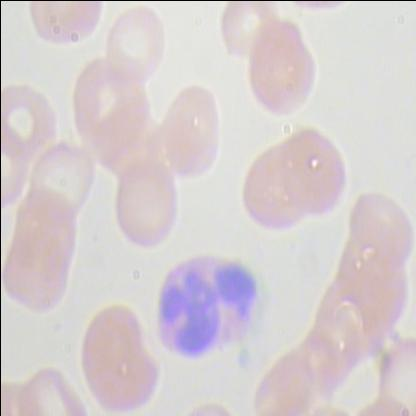RBC: (76, 294, 165, 415), (243, 16, 319, 121), (157, 82, 233, 186), (102, 1, 174, 91), (1, 226, 72, 314), (278, 128, 347, 218), (240, 142, 308, 233), (110, 161, 178, 251), (346, 186, 414, 276), (27, 138, 99, 218), (1, 76, 59, 169), (26, 0, 108, 54), (214, 1, 276, 65), (13, 364, 88, 416)
WBC: (146, 240, 262, 362)
